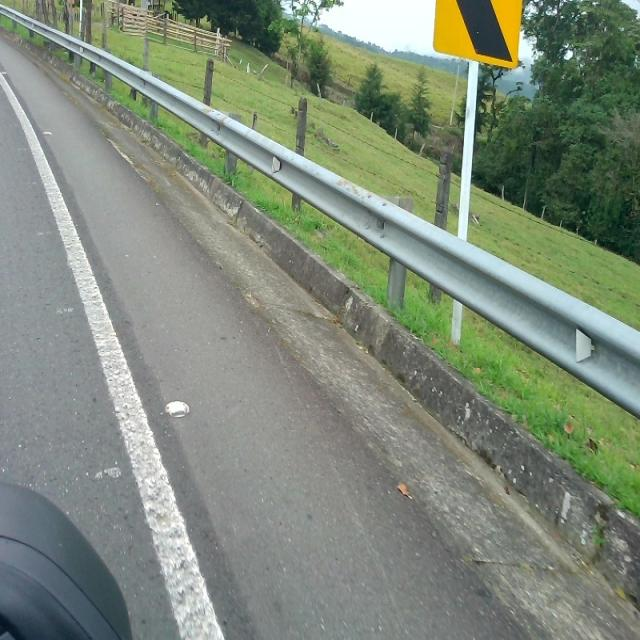DITCH: (1, 31, 638, 638)
